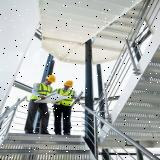Helmet: (46, 74, 57, 83), (64, 80, 74, 86)
Vest: (29, 82, 54, 102), (54, 89, 76, 107)
